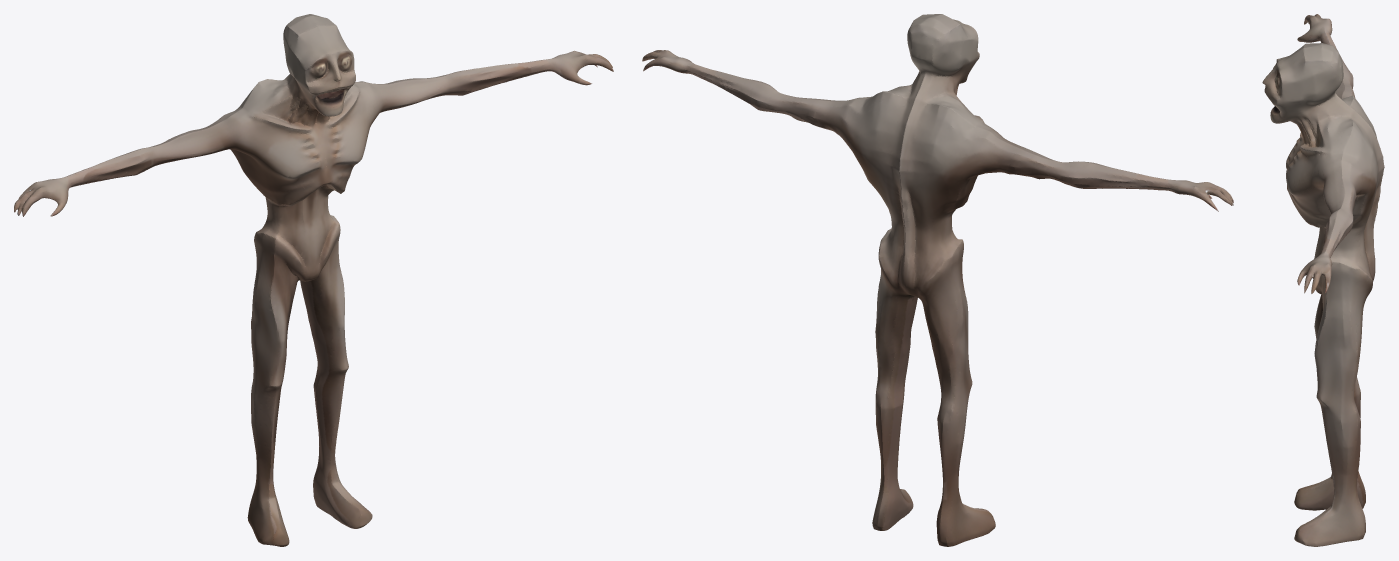
File: base_basic_pbr.fbx
3 renders of one model, left to right at view 1: azimuth 30°, elevation 25°; view 2: azimuth 150°, elevation 25°; view 3: azimuth 270°, elevation 25°, orthographic. The views are drawn at different scales.
Visible parts, largest first — view 1: model; view 2: model; view 3: model.
Part boxes in pixels (x1=…): model: x1=14, y1=14, x2=613, y2=546; model: x1=642, y1=14, x2=1233, y2=546; model: x1=1262, y1=14, x2=1384, y2=546.
Size of the model in its own units: 244 by 200 by 46.16.
Materials: 1 (1 with a texture image).
